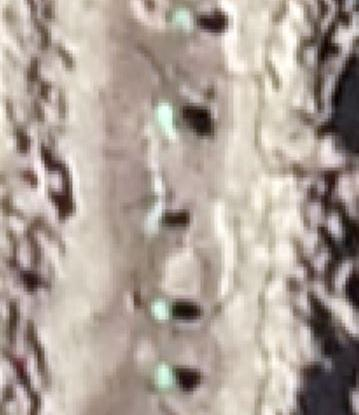cotton: (156, 102, 177, 135), (153, 362, 176, 390), (149, 296, 173, 321), (173, 8, 195, 30)
